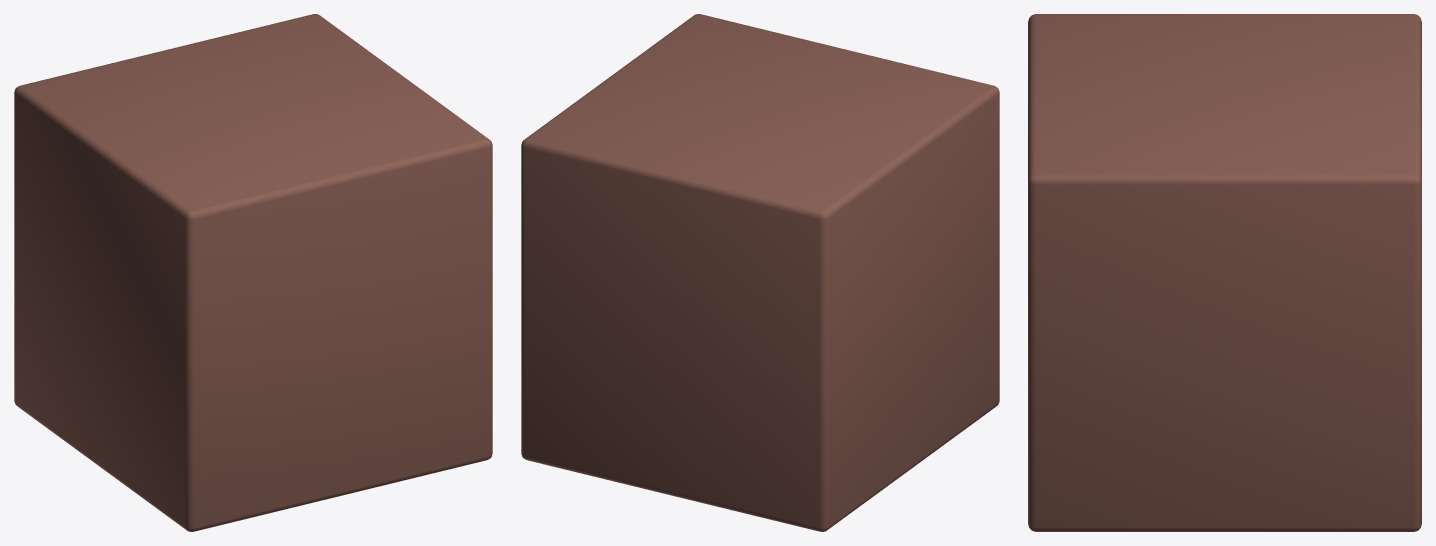
File: red grassTile.fbx
3 views of the same model, side by side, from view 1: azimuth 30°, elevation 25°; view 2: azimuth 150°, elevation 25°; view 3: azimuth 270°, elevation 25° (orthographic). The views are drawn at different scales.
Visible parts, largest first — view 1: Cube; view 2: Cube; view 3: Cube.
Part boxes in pixels (bbox=[...]): Cube: bbox=[14, 14, 492, 531]; Cube: bbox=[521, 14, 999, 531]; Cube: bbox=[1028, 14, 1421, 531].
Size of the model in its own units: 200 by 200 by 200.
